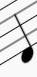D: (10, 1, 35, 67)
